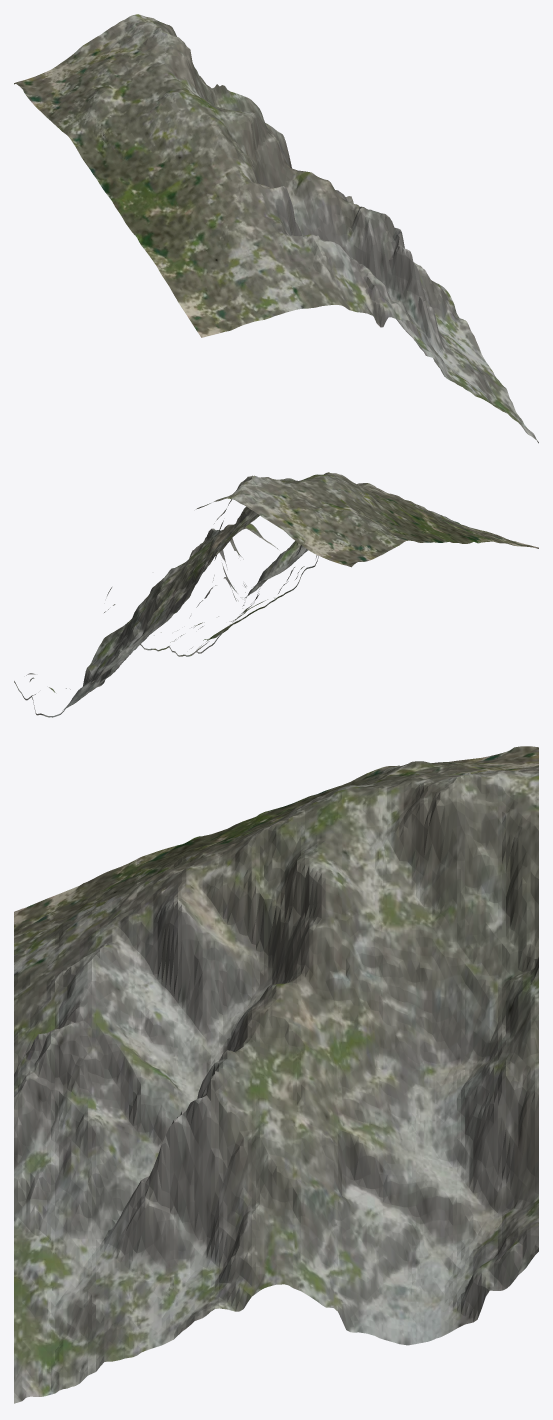
The picture shows the model from 3 angles, top to bottom: view 1: azimuth 30°, elevation 25°; view 2: azimuth 150°, elevation 25°; view 3: azimuth 270°, elevation 25°; orthographic projection. The views are drawn at different scales.
Bounding box in the file's own units: 250 × 245 × 241.
1 material, 1 textured.
